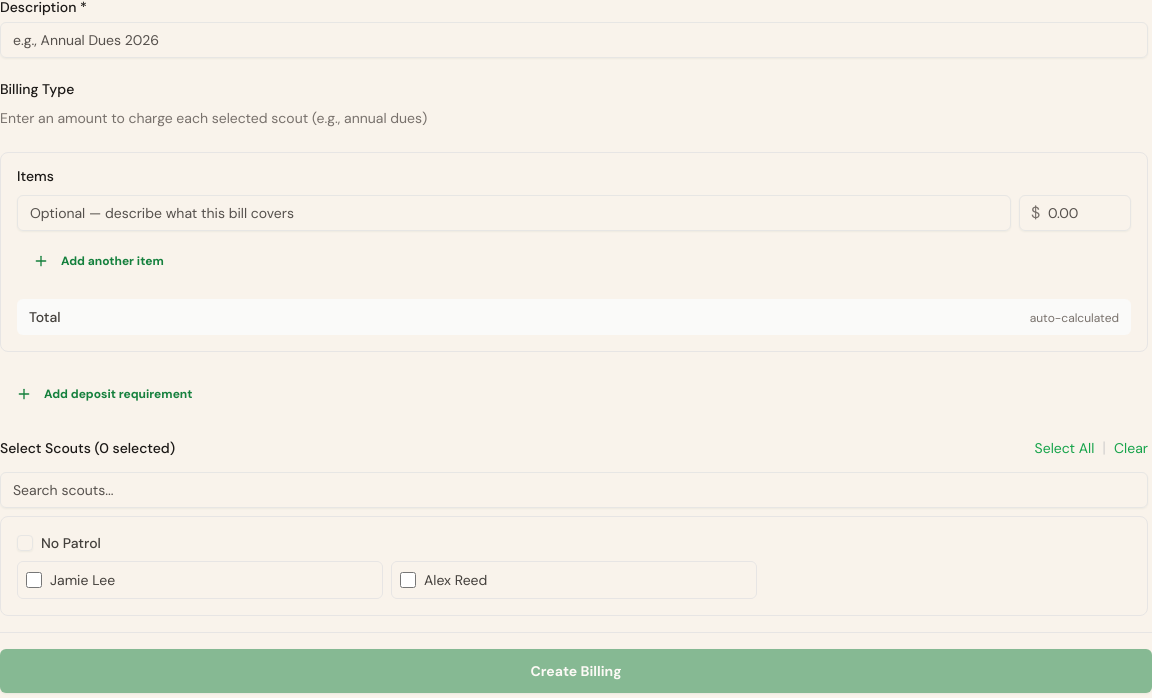
BillingForm — line items as source of truth › removes a row when its × is clicked
Click the button "Add another item".
click(98, 261)  # box [17,243,180,279]
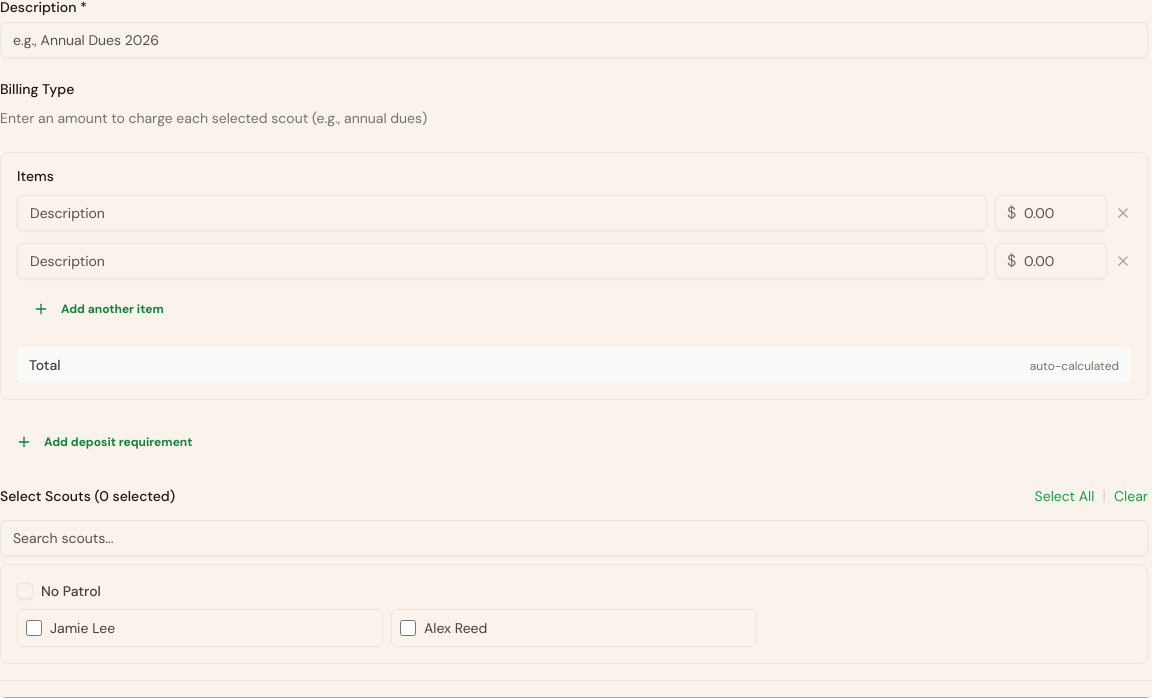
expect the number of number fields with placeholder "0.00" is 2: met, box [995,195,1107,231]; [995,243,1107,279]
Click the 1st button named "Remove line item".
click(1123, 213)  # box [1115,205,1131,221]
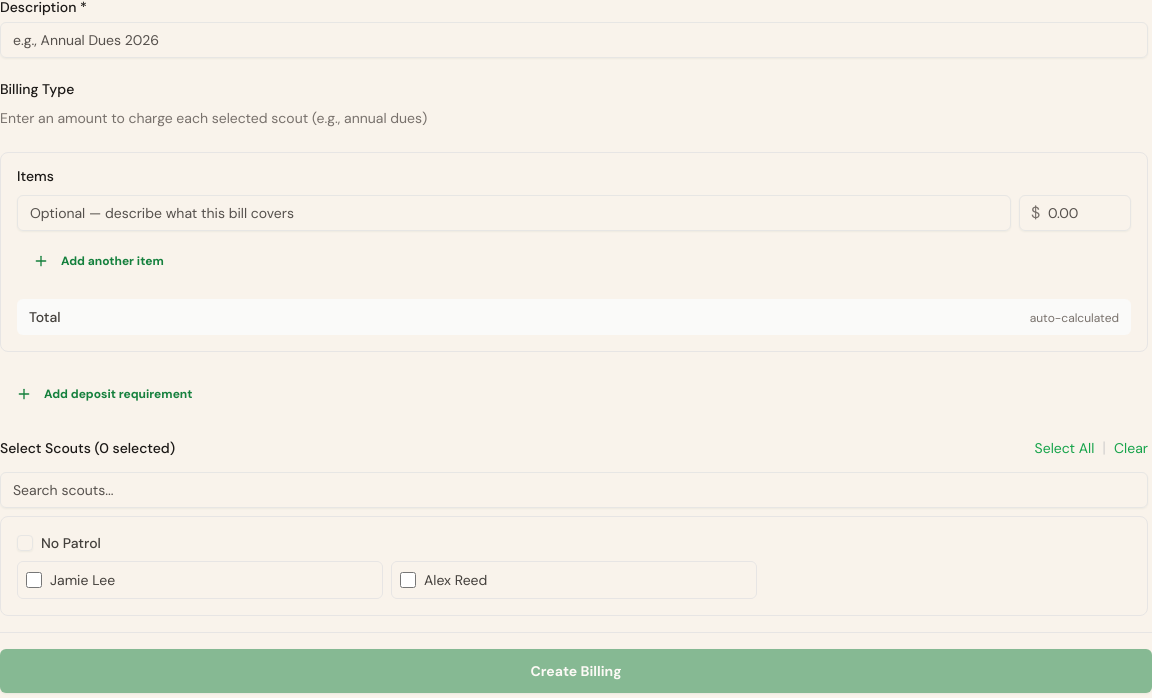
expect the number of number fields with placeholder "0.00" is 1: met, box [1019,195,1131,231]
